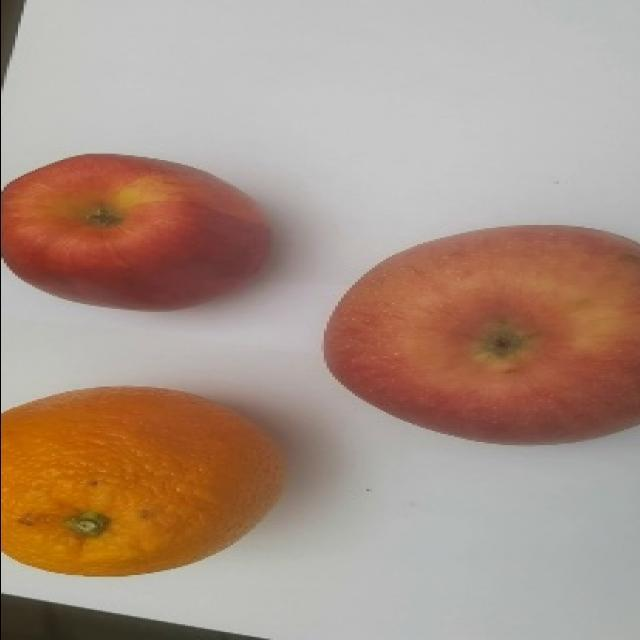Apple: (322, 223, 639, 445), (0, 152, 271, 312)
Orange: (0, 384, 284, 577)
